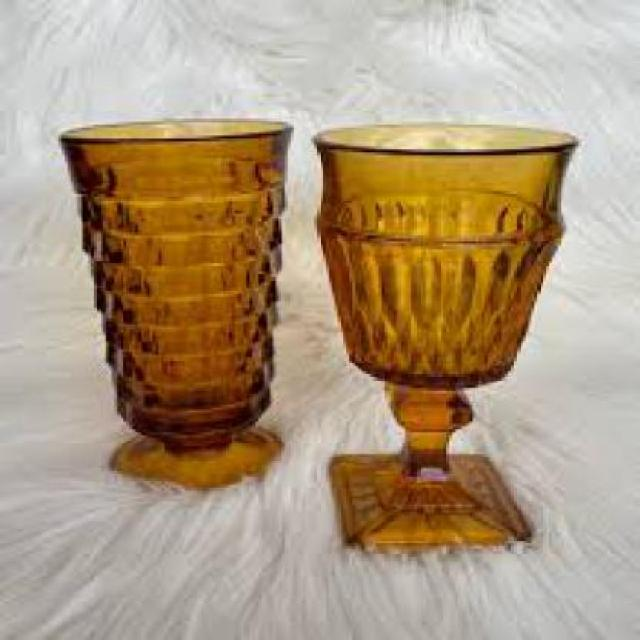kaca: (311, 123, 575, 552), (58, 118, 291, 491)
